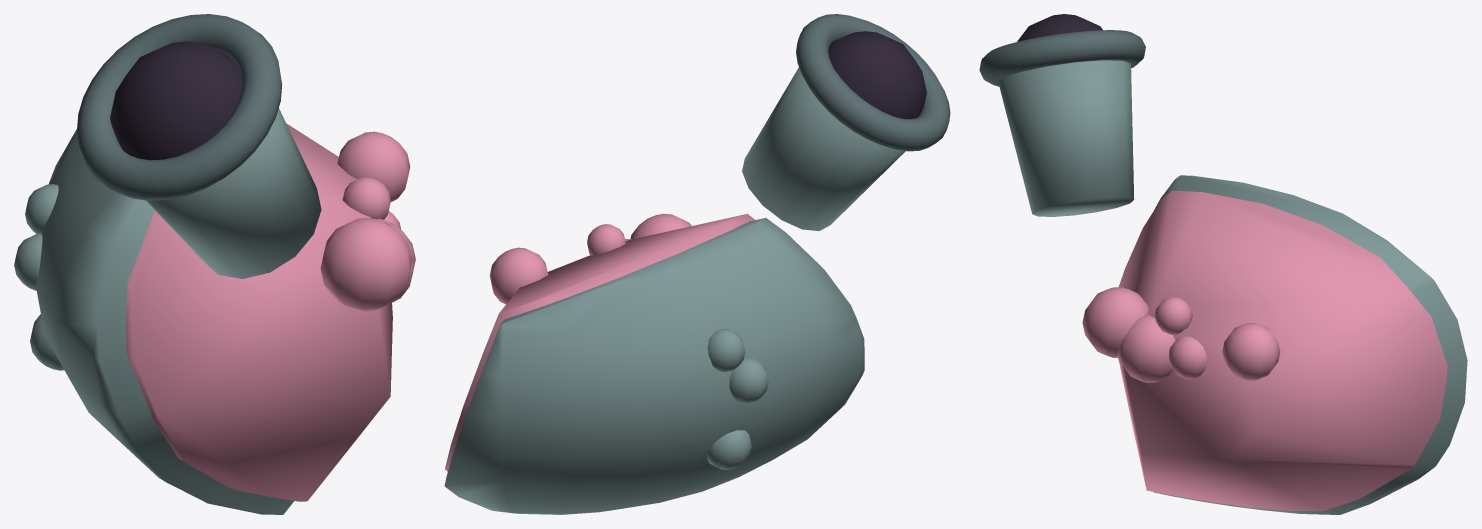
File: chunk3.glb
3 views of the same model, side by side, from view 1: azimuth 30°, elevation 25°; view 2: azimuth 150°, elevation 25°; view 3: azimuth 270°, elevation 25° (orthographic). The views are drawn at different scales.
Parts seen in each view (by area): view 1: flesh, skin, lip, mouth; view 2: skin, flesh, lip, mouth; view 3: flesh, skin, lip, mouth.
Boxes of the visible parts, x1,y1,x2,y2 form: flesh: [126, 123, 415, 501]; skin: [14, 108, 321, 514]; lip: [77, 14, 282, 200]; mouth: [110, 41, 242, 160]; skin: [444, 67, 905, 514]; flesh: [445, 213, 754, 471]; lip: [796, 14, 950, 151]; mouth: [828, 31, 926, 119]; flesh: [1082, 190, 1447, 511]; skin: [998, 60, 1467, 514]; lip: [979, 30, 1145, 86]; mouth: [1017, 14, 1102, 41].
Size of the model in its own units: 1.1 by 1.36 by 1.42.
